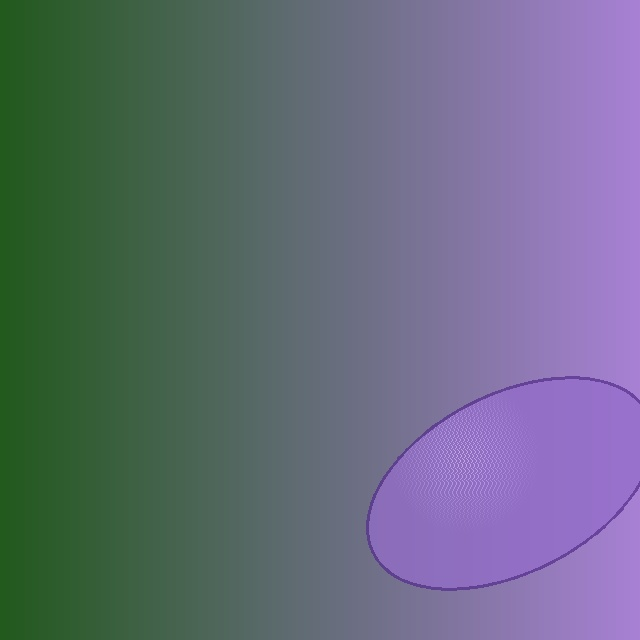lens: (367, 377, 640, 589)
